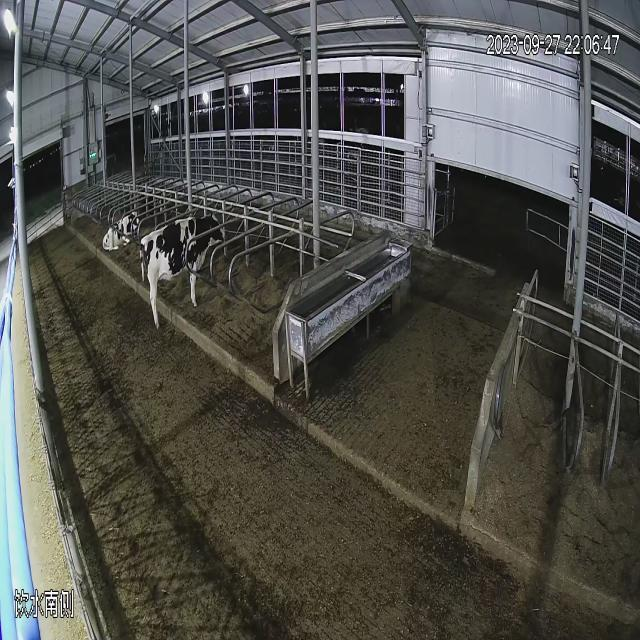lying down: (102, 188, 142, 261)
standing: (143, 220, 250, 320)
